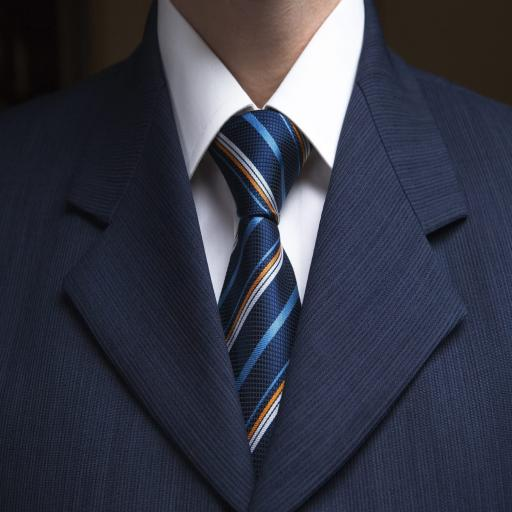person: (0, 0, 511, 512)
tie: (207, 106, 313, 476)
